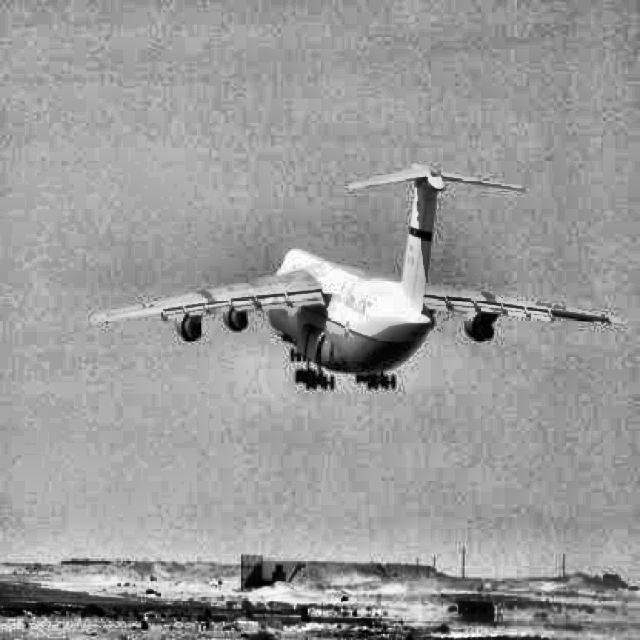C5: (90, 163, 628, 391)
